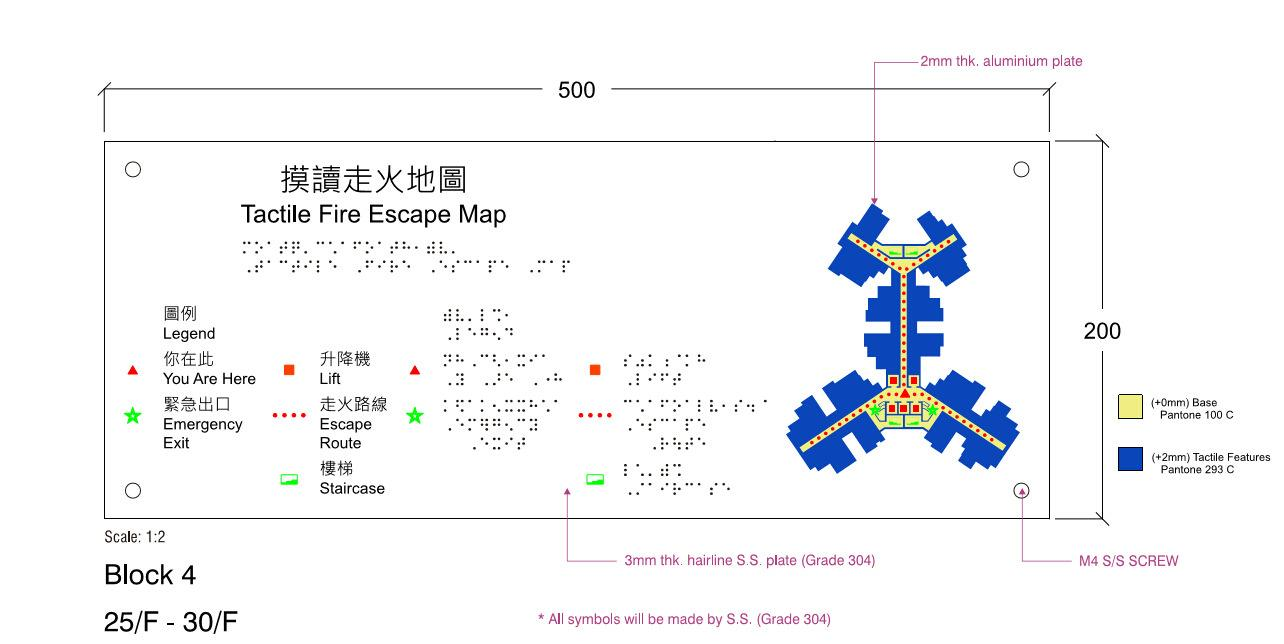Braille: (363, 240, 376, 256), (707, 399, 720, 414), (486, 259, 498, 275), (465, 326, 477, 342), (466, 417, 478, 433), (389, 258, 400, 275), (491, 417, 502, 434), (659, 353, 670, 370), (721, 398, 732, 415), (696, 417, 707, 434), (522, 259, 534, 274), (454, 307, 466, 322), (684, 398, 696, 413), (672, 482, 684, 497), (301, 240, 312, 256), (327, 240, 338, 256), (561, 259, 572, 275), (442, 307, 453, 323), (442, 326, 453, 342), (454, 326, 465, 342), (517, 398, 528, 414), (503, 418, 514, 434), (491, 436, 502, 452), (671, 354, 682, 370), (622, 398, 633, 414), (684, 417, 695, 433), (502, 372, 514, 386), (634, 354, 646, 368), (352, 240, 363, 255), (377, 241, 388, 256), (451, 241, 462, 256), (315, 259, 326, 274), (327, 259, 338, 274), (536, 259, 547, 274), (454, 353, 465, 368), (466, 353, 477, 368), (516, 353, 527, 368), (541, 353, 552, 368), (467, 398, 478, 413), (480, 399, 491, 414), (504, 398, 515, 413), (527, 398, 538, 413), (467, 436, 478, 451), (479, 436, 490, 451), (696, 354, 707, 369), (635, 372, 646, 387), (671, 372, 682, 387), (697, 399, 708, 414), (621, 418, 632, 433), (647, 462, 658, 477), (635, 482, 646, 497), (648, 482, 659, 497), (476, 258, 485, 276), (291, 239, 301, 255), (315, 240, 325, 256), (340, 240, 350, 256), (440, 240, 450, 256), (303, 259, 313, 275), (377, 259, 387, 275), (480, 307, 490, 323), (480, 326, 490, 342), (492, 326, 502, 342), (480, 352, 490, 368), (540, 398, 550, 414), (553, 398, 563, 414), (480, 418, 490, 434), (516, 436, 526, 452), (684, 354, 694, 370), (648, 398, 658, 414), (659, 417, 669, 433), (672, 436, 682, 452), (685, 436, 695, 452), (624, 462, 634, 478), (634, 462, 644, 478), (659, 462, 669, 478), (672, 462, 682, 478), (721, 481, 731, 497), (450, 260, 461, 274), (504, 437, 515, 451), (622, 353, 633, 367), (647, 418, 658, 432), (671, 418, 682, 432), (390, 240, 399, 257), (414, 241, 424, 256), (242, 259, 252, 274), (254, 259, 264, 274), (365, 259, 375, 274), (550, 259, 560, 274), (467, 308, 477, 323), (504, 308, 514, 323), (492, 353, 502, 368), (541, 372, 551, 387), (491, 399, 501, 414), (442, 418, 452, 433), (455, 417, 465, 432), (528, 417, 538, 432), (671, 398, 681, 413), (635, 417, 645, 432), (660, 436, 670, 451), (660, 482, 670, 497), (697, 481, 707, 496), (709, 482, 719, 497), (263, 240, 272, 256), (279, 239, 288, 255), (402, 240, 411, 256), (492, 307, 501, 323), (443, 352, 452, 368), (648, 371, 657, 387), (636, 398, 645, 414), (660, 398, 669, 414), (734, 398, 743, 414), (623, 480, 632, 496), (262, 260, 272, 274), (279, 260, 289, 274), (500, 260, 510, 274), (503, 354, 513, 368), (480, 372, 490, 386), (491, 372, 501, 386), (442, 398, 452, 412), (516, 417, 526, 431), (660, 372, 670, 386), (648, 436, 658, 450), (428, 240, 436, 257), (686, 481, 694, 498), (402, 259, 411, 274), (439, 259, 448, 274), (463, 259, 472, 274), (530, 353, 539, 368), (443, 371, 452, 386), (455, 372, 464, 387), (554, 372, 563, 387), (455, 398, 464, 413), (648, 353, 657, 368), (623, 371, 632, 386), (697, 436, 706, 451), (352, 260, 362, 273), (504, 327, 514, 340), (242, 240, 251, 254), (254, 241, 263, 255), (291, 260, 300, 274), (427, 260, 436, 274), (529, 372, 538, 386), (758, 399, 767, 413), (747, 399, 755, 414)
